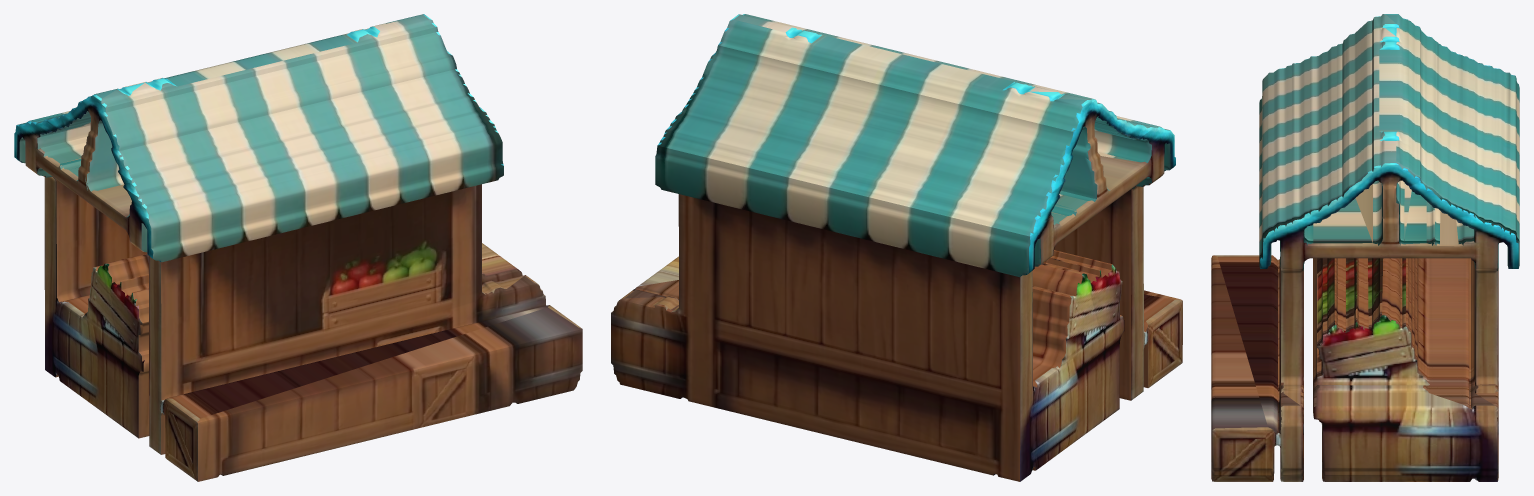
Rendered from town-stall-teal.glb.
3 renders of one model, left to right at view 1: azimuth 30°, elevation 25°; view 2: azimuth 150°, elevation 25°; view 3: azimuth 270°, elevation 25°, orthographic. The views are drawn at different scales.
Parts seen in each view (by area): view 1: piece; view 2: piece; view 3: piece.
Boxes of the visible parts, x1,y1,x2,y2 form: piece: [14, 14, 582, 481]; piece: [611, 14, 1182, 481]; piece: [1211, 14, 1519, 481].
Size of the model in its own units: 3.72 by 2.8 by 2.62.
1 material, 1 textured.
